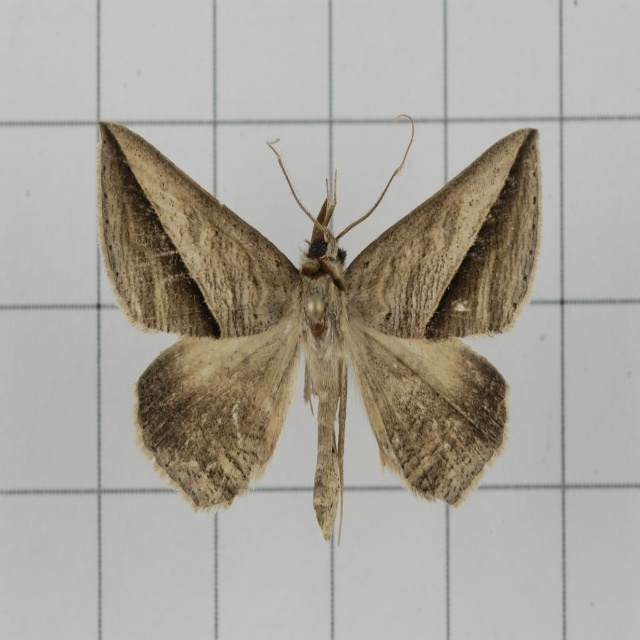Butterfly: (106, 102, 526, 555)
